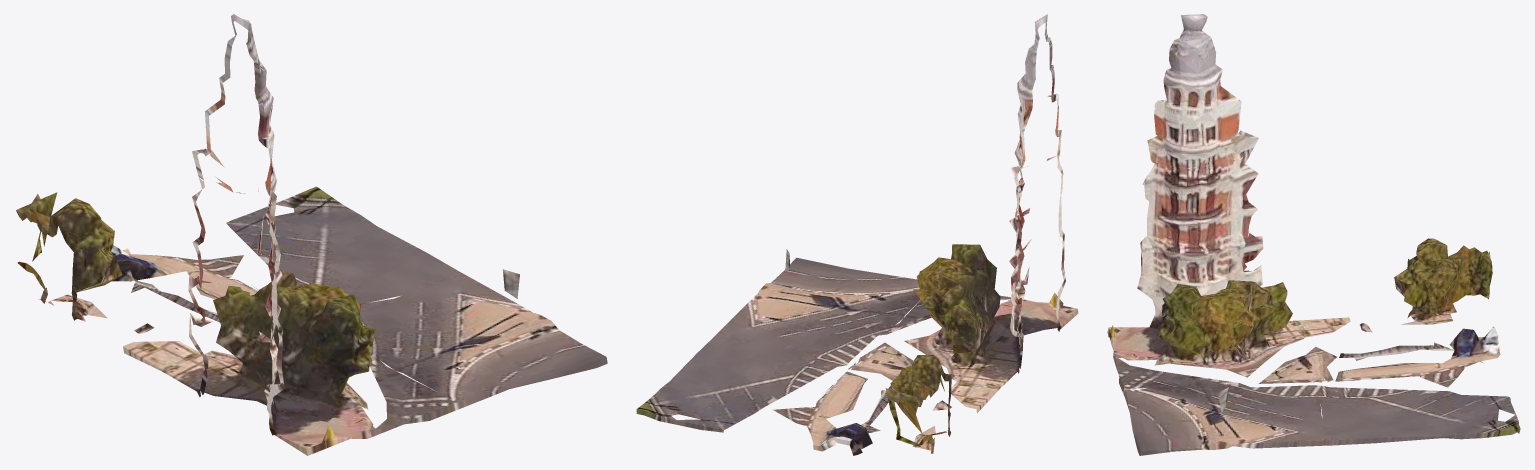
3 views of the same model, side by side, from view 1: azimuth 30°, elevation 25°; view 2: azimuth 150°, elevation 25°; view 3: azimuth 270°, elevation 25° (orthographic). The views are drawn at different scales.
Parts seen in each view (by area): view 1: Mesh_0; view 2: Mesh_0; view 3: Mesh_0.
Part boxes in pixels (x1,y1,x2,y2): Mesh_0: [16, 14, 607, 455]; Mesh_0: [636, 14, 1078, 455]; Mesh_0: [1107, 14, 1520, 455].
Size of the model in its own units: 33.62 by 34.79 by 41.22.
Materials: 1 (1 with a texture image).
